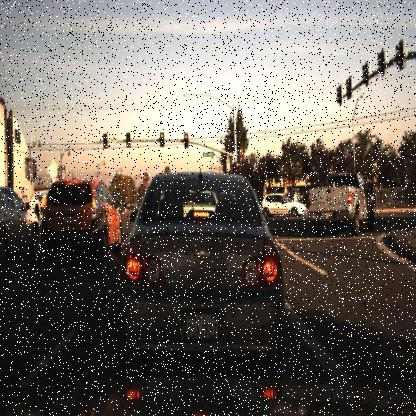car: (120, 173, 281, 371), (40, 175, 122, 265), (306, 170, 373, 233), (0, 184, 40, 263), (261, 191, 306, 219)
trafficLight-GreenLeft: (102, 129, 110, 150), (124, 130, 132, 151)
trafficLight-Red: (159, 129, 167, 148), (182, 132, 190, 151), (233, 160, 241, 178)
truck: (0, 90, 40, 228), (0, 97, 44, 221)
